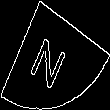N_NE: (32, 23, 78, 87)
